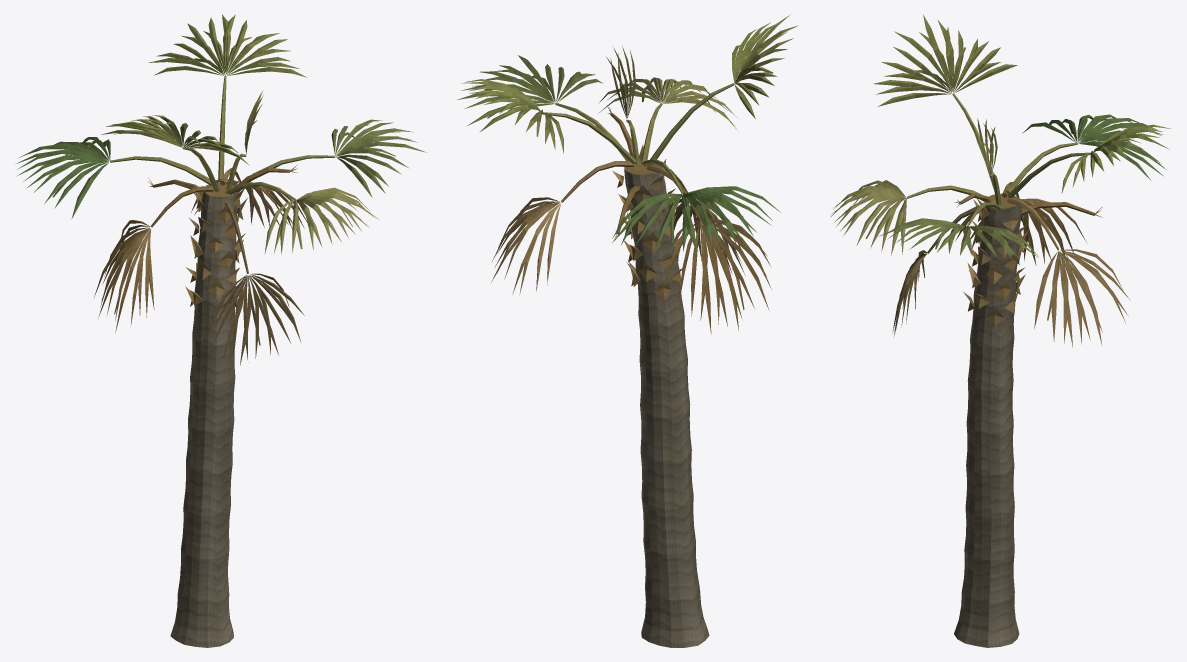
The model's file is palm_fl_struggling.glb.
3 renders of one model, left to right at view 1: azimuth 30°, elevation 25°; view 2: azimuth 150°, elevation 25°; view 3: azimuth 270°, elevation 25°, orthographic. The views are drawn at different scales.
Visible parts, largest first — view 1: Florida_Fan_Palm_Struggling; view 2: Florida_Fan_Palm_Struggling; view 3: Florida_Fan_Palm_Struggling.
Boxes of the visible parts, bbox=[...] form: Florida_Fan_Palm_Struggling: bbox=[16, 14, 426, 647]; Florida_Fan_Palm_Struggling: bbox=[457, 15, 798, 647]; Florida_Fan_Palm_Struggling: bbox=[830, 14, 1170, 647].
Bounding box in the file's own units: 3.41 × 5.68 × 3.07.
1 material, 1 textured.
